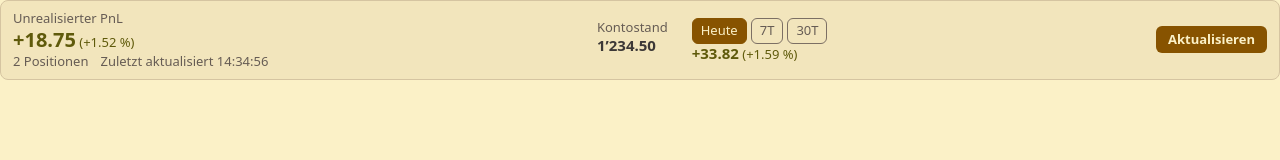
Test: OpenPositionsHeader › Konto › schaltet den Zeitraum um, tönt Verluste negativ und lässt unbekannte Prozent weg
Click the button "7T" at (767, 30), box x1=751 y1=18 x2=783 y2=44
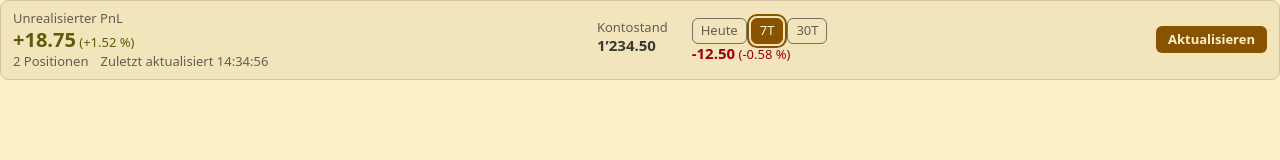
Result: the element labelled "Konto" shows "(-0.58 %)" at x1=735 y1=44 x2=790 y2=62
Click the button "30T" at (807, 30), box x1=787 y1=18 x2=828 y2=44
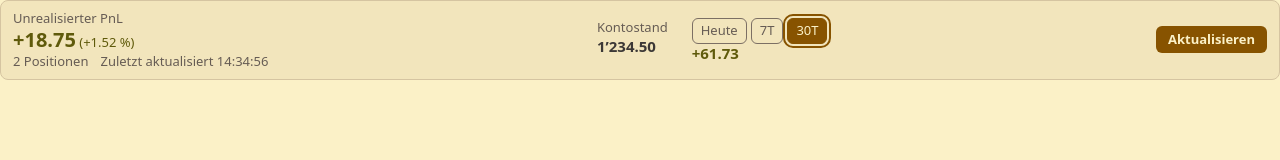
Expected: the element labelled "Konto" does not show "%", x1=597 y1=18 x2=828 y2=62
Result: the element labelled "Konto" shows "+61.73" at x1=692 y1=43 x2=739 y2=63
